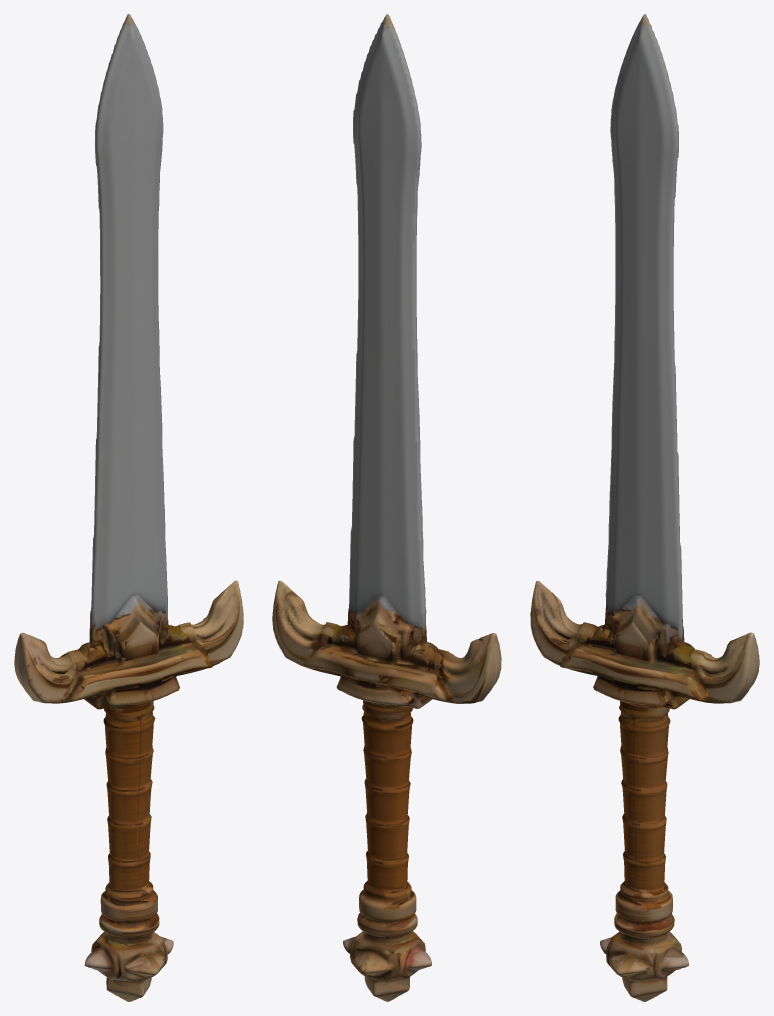
Rendered from hobbit_sword_lv1.fbx.
The picture shows the model from 3 angles, left to right: view 1: azimuth 30°, elevation 25°; view 2: azimuth 150°, elevation 25°; view 3: azimuth 330°, elevation 25°; orthographic projection.
Parts seen in each view (by area): view 1: Hobbit Sword_LV1; view 2: Hobbit Sword_LV1; view 3: Hobbit Sword_LV1.
Part boxes in pixels (x1,y1,x2,y2): Hobbit Sword_LV1: (14, 14, 243, 1001); Hobbit Sword_LV1: (272, 14, 501, 1001); Hobbit Sword_LV1: (530, 14, 759, 1001).
Bounding box in the file's own units: 27.97 × 120 × 11.42.
